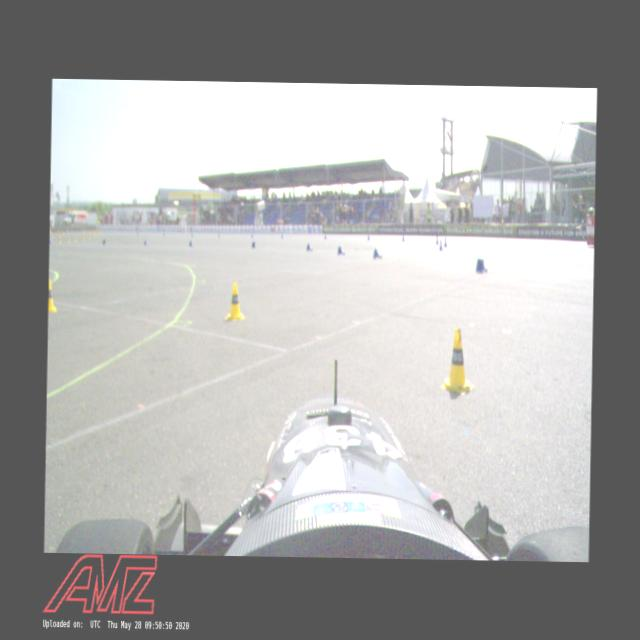blue_cone: (474, 257, 488, 273), (372, 248, 382, 259), (336, 245, 345, 256), (306, 243, 314, 252), (442, 236, 448, 247), (438, 239, 443, 251), (435, 234, 439, 244)
yellow_cone: (441, 326, 476, 396), (224, 280, 244, 322), (48, 278, 59, 314)
